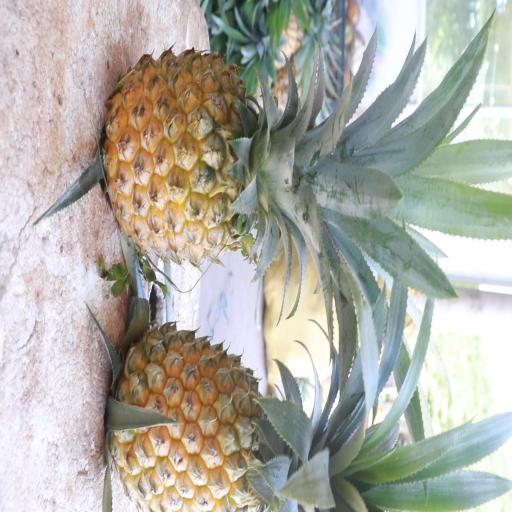Pineapple - v8 v1: (99, 40, 337, 273), (104, 315, 342, 512)
